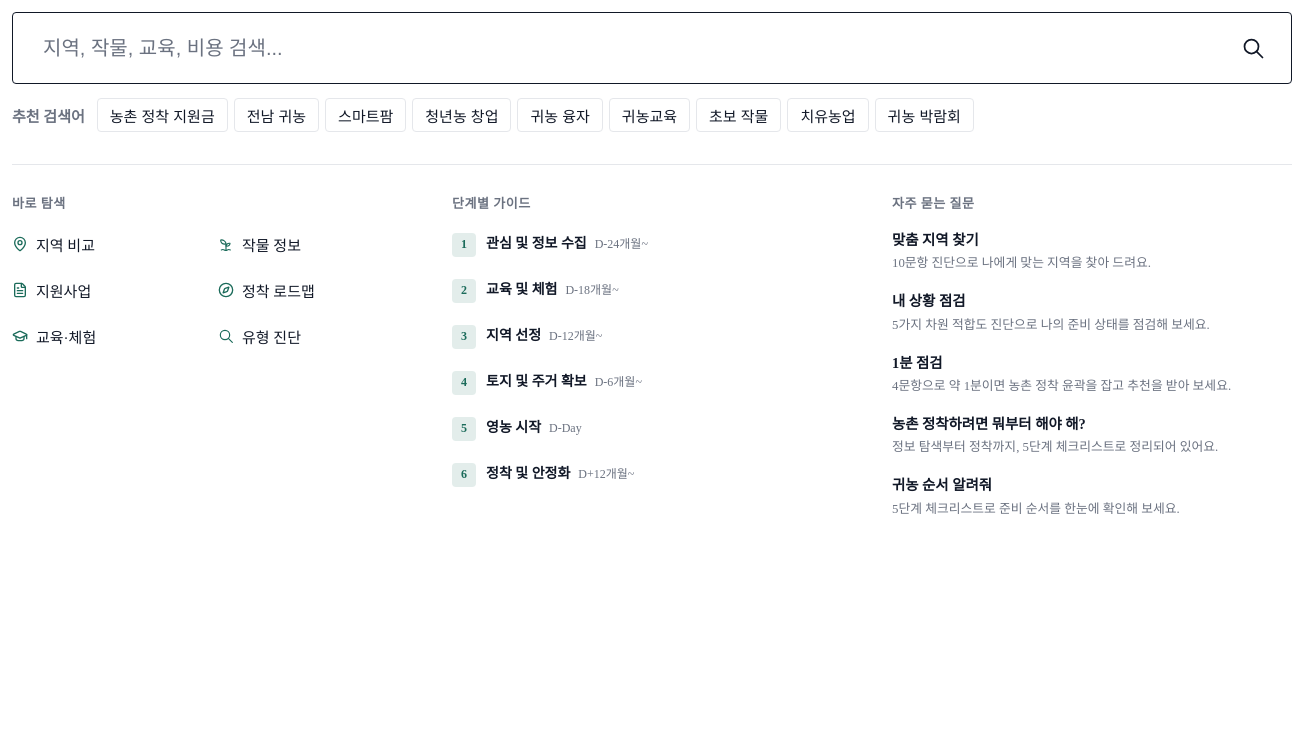
Test: 입력 중 — 자동완성 › 리스트박스는 제안 옵션만 담고, '전체 검색 결과 보기' 링크는 옵션이 아니다
The width and height of the screenshot is (1292, 732).
Type "사과" into the dropdown with placeholder "지역, 작물, 교육, 비용 검색..." at coordinates (630, 48), box [41,13,1219,83]
Wait 200 ms
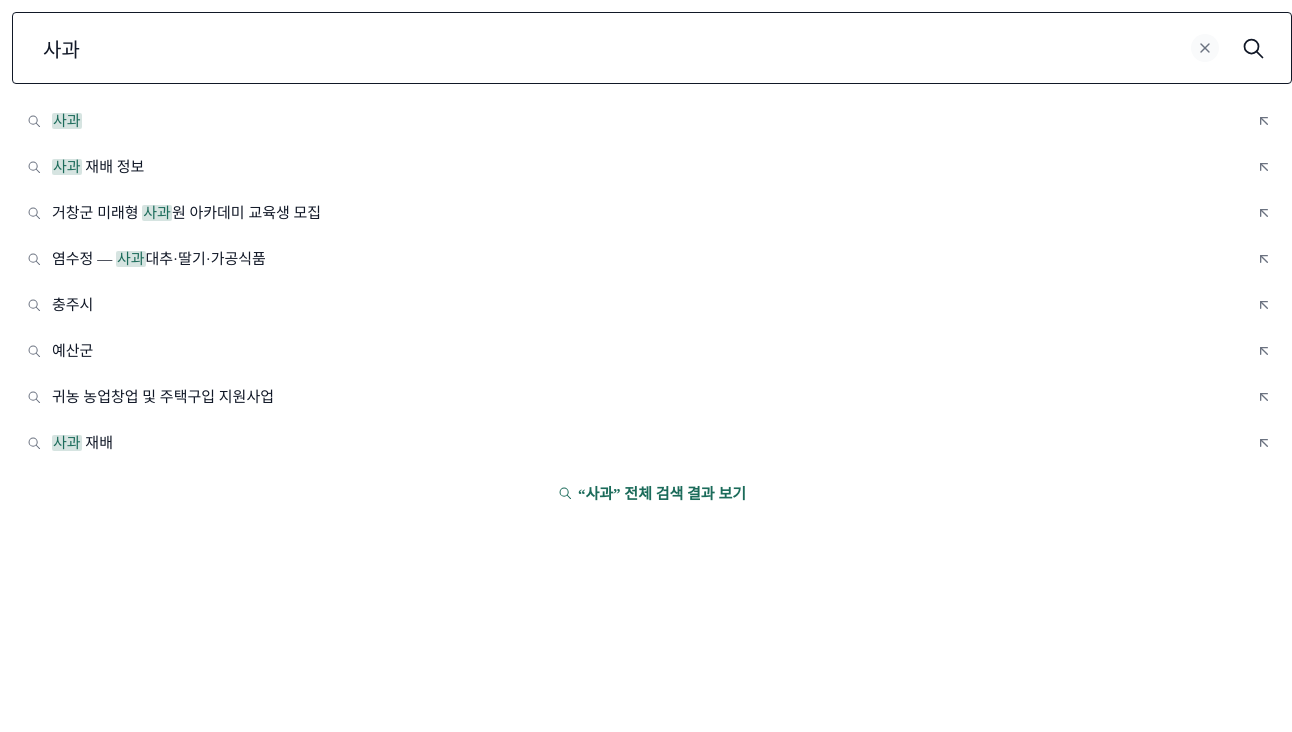
Expected: the element that starts with "재배 정보" is shown, [12,98,1291,519]
Expected: the number of lists is 1, [27,113,321,451]
Expected: the link "“사과” 전체 검색 결과 보기" is shown, [558,486,746,502]
